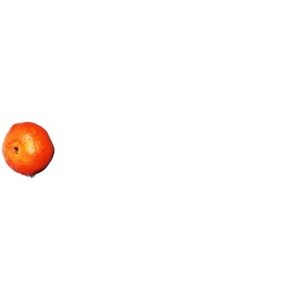tangerina: (3, 124, 55, 177)
